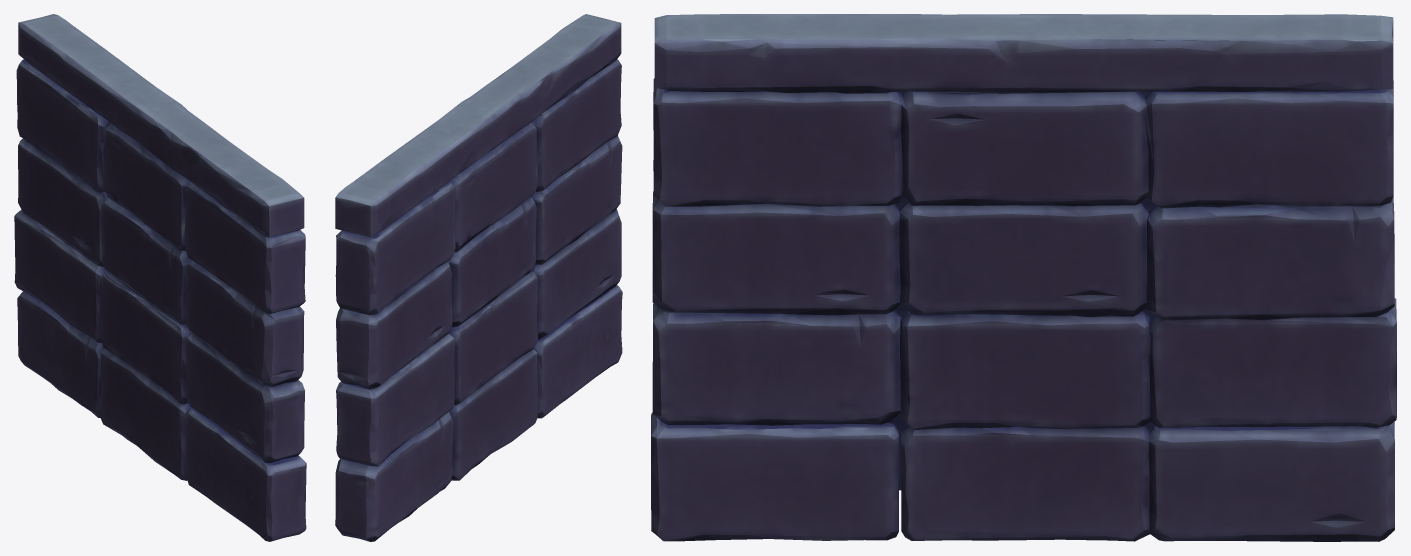
The model's file is Wall2.FBX.
3 views of the same model, side by side, from view 1: azimuth 30°, elevation 25°; view 2: azimuth 150°, elevation 25°; view 3: azimuth 270°, elevation 25° (orthographic). The views are drawn at different scales.
Visible parts, largest first — view 1: Wall2_01; view 2: Wall2_01; view 3: Wall2_01.
Boxes of the visible parts, x1=… form: Wall2_01: x1=14, y1=14, x2=306, y2=541; Wall2_01: x1=335, y1=14, x2=622, y2=541; Wall2_01: x1=651, y1=14, x2=1396, y2=541.
Size of the model in its own units: 0.6191 by 4.49 by 6.02.
1 material, 1 textured.
